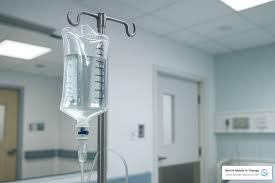Iv_Bottle: (60, 25, 108, 126)
